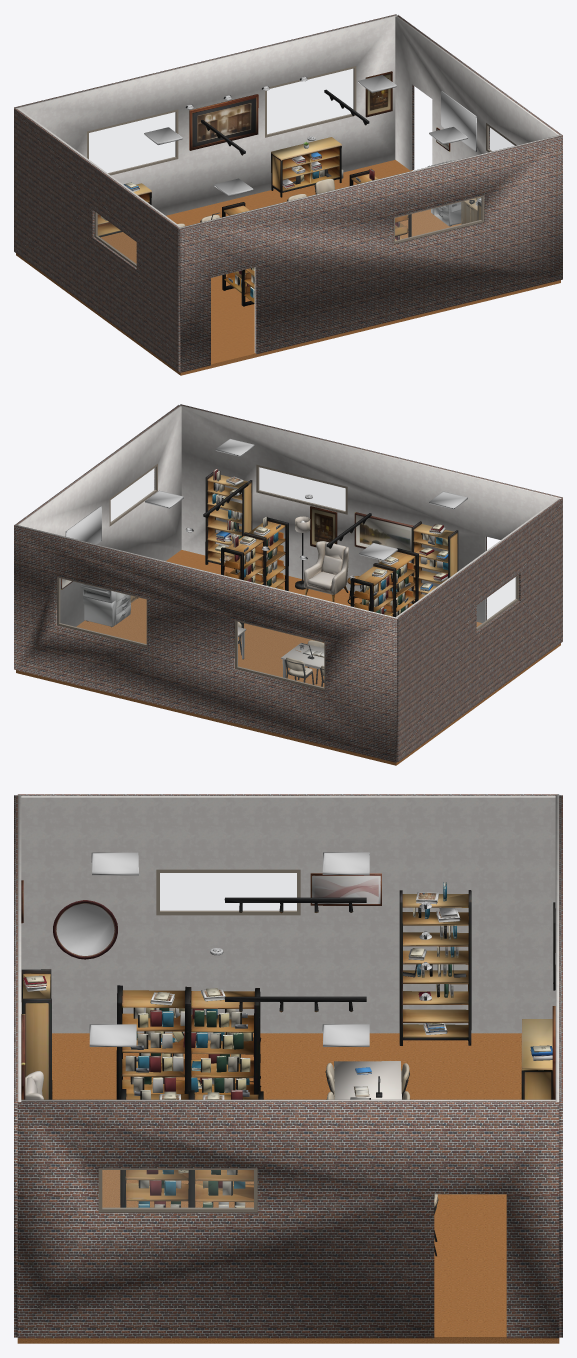
File: scene_named.glb
3 renders of one model, top to bottom at view 1: azimuth 30°, elevation 25°; view 2: azimuth 150°, elevation 25°; view 3: azimuth 270°, elevation 25°, orthographic. The views are drawn at different scales.
Parts seen in each view (by area): view 1: south_wall_exterior_library/south_wall_exterior_library/geom, north_wall_library/north_wall_library/geometry_0, west_wall_exterior_library/west_wall_exterior_library/geomet, east_wall_library/east_wall_library/geometry_0, floor_library, window_2_library/window_2_library/glass, window_1_library/window_1_library/glass, engraving_print_0, bookcase_4, window_5_library/window_5_library/glass, whiteboard_0, bookshelf_0 (+11 smaller); view 2: north_wall_exterior_library/north_wall_exterior_library/geom, south_wall_library/south_wall_library/geometry_0, west_wall_exterior_library/west_wall_exterior_library/geomet, east_wall_library/east_wall_library/geometry_0, floor_library, window_1_library/window_1_library/glass, window_2_library/window_2_library/glass, bookshelf_1, bookshelf_0, bookcase_1, window_5_library/window_5_library/glass, bookcase_0 (+15 smaller); view 3: east_wall_exterior_library/east_wall_exterior_library/geomet, west_wall_library/west_wall_library/geometry_0, floor_library, bookshelf_0, bookcase_2, window_4_library/window_4_library/glass, window_3_library/window_3_library/glass, bookshelf_1, mirror_0, bookcase_0, dining_table_0, bookcase_3 (+15 smaller).
Part boxes in pixels (x1,y1,x2,y2): south_wall_exterior_library/south_wall_exterior_library/geom: (179, 135, 562, 372); north_wall_library/north_wall_library/geometry_0: (15, 15, 397, 215); west_wall_exterior_library/west_wall_exterior_library/geomet: (14, 108, 179, 371); east_wall_library/east_wall_library/geometry_0: (395, 16, 559, 170); floor_library: (16, 160, 560, 375); window_2_library/window_2_library/glass: (267, 69, 353, 134); window_1_library/window_1_library/glass: (89, 112, 175, 173); engraving_print_0: (189, 94, 258, 150); bookcase_4: (271, 137, 341, 197); window_5_library/window_5_library/glass: (395, 197, 481, 240); whiteboard_0: (441, 91, 476, 151); bookshelf_0: (222, 202, 254, 306); north_wall_exterior_library/north_wall_exterior_library/geom: (14, 525, 397, 762); south_wall_library/south_wall_library/geometry_0: (179, 405, 561, 622); west_wall_exterior_library/west_wall_exterior_library/geomet: (397, 498, 562, 761); east_wall_library/east_wall_library/geometry_0: (17, 406, 181, 626); floor_library: (16, 550, 560, 765); window_1_library/window_1_library/glass: (237, 622, 323, 687); window_2_library/window_2_library/glass: (60, 578, 146, 643); bookshelf_1: (221, 517, 288, 635); bookshelf_0: (350, 548, 418, 617); bookcase_1: (205, 472, 252, 564); window_5_library/window_5_library/glass: (259, 467, 345, 510); bookcase_0: (411, 521, 458, 603); east_wall_exterior_library/east_wall_exterior_library/geomet: (17, 1101, 559, 1338); west_wall_library/west_wall_library/geometry_0: (21, 796, 555, 1033); floor_library: (17, 1033, 559, 1343); bookshelf_0: (116, 985, 261, 1099); bookcase_2: (399, 890, 471, 1045); window_4_library/window_4_library/glass: (102, 1170, 253, 1208); window_3_library/window_3_library/glass: (160, 873, 296, 910); bookshelf_1: (120, 1089, 263, 1207); mirror_0: (53, 900, 117, 959); bookcase_0: (21, 969, 52, 1099); dining_table_0: (334, 1061, 401, 1099); bookcase_3: (521, 1019, 552, 1099).
Bounding box in the file's own units: 10.1 × 3.7 × 7.6.
62 materials, 60 textured.
